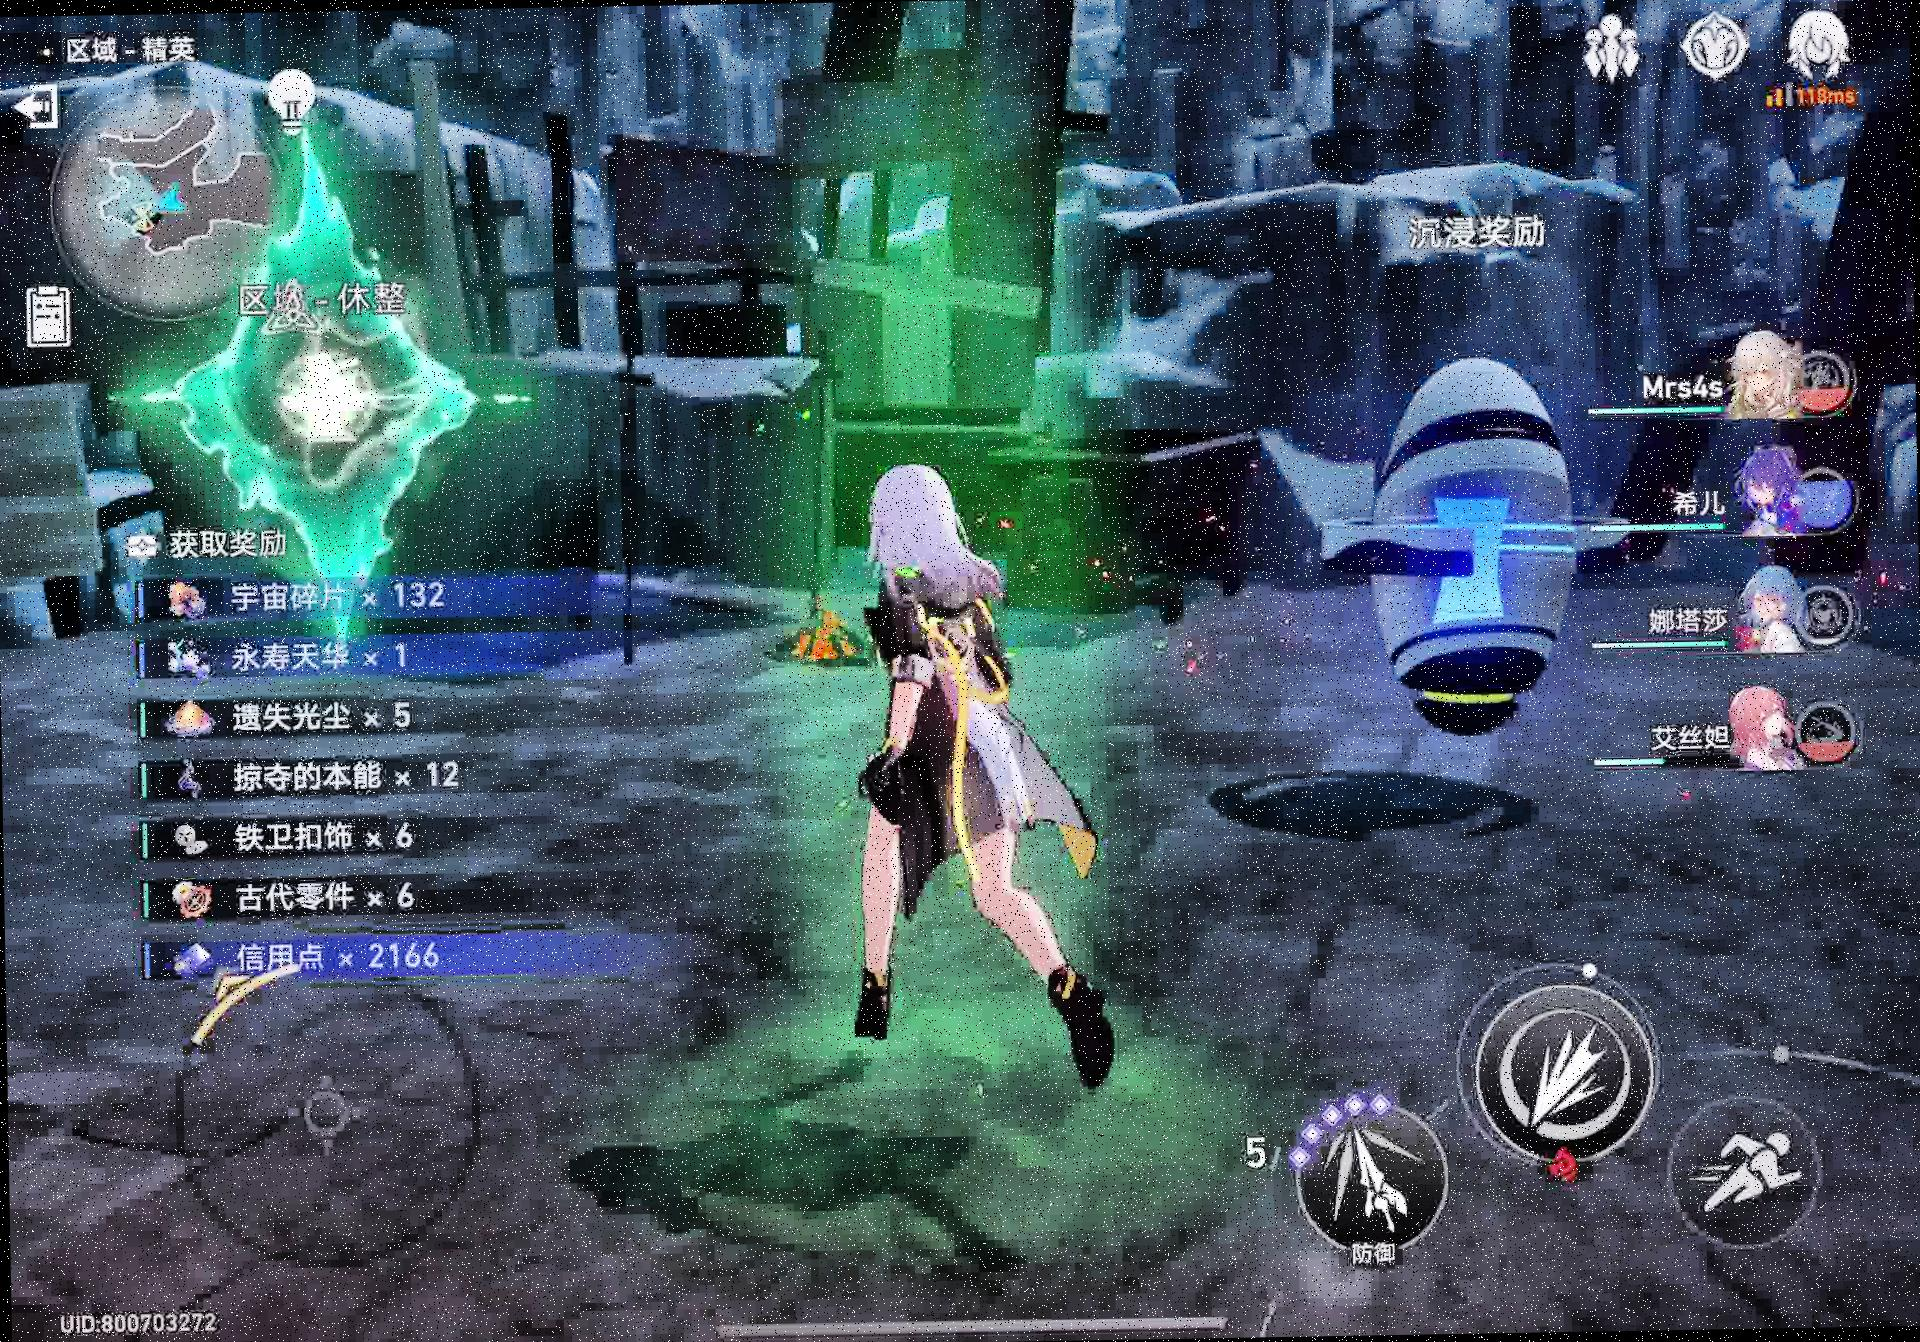SafeDoor: (153, 141, 531, 700)
Self: (810, 464, 1157, 1113)
